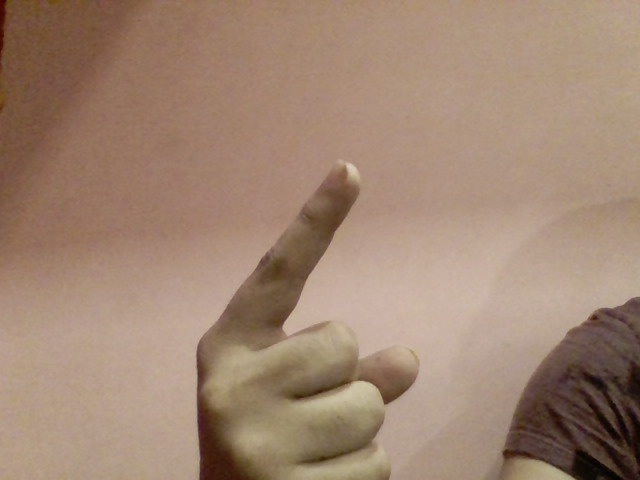z: (169, 130, 448, 479)
